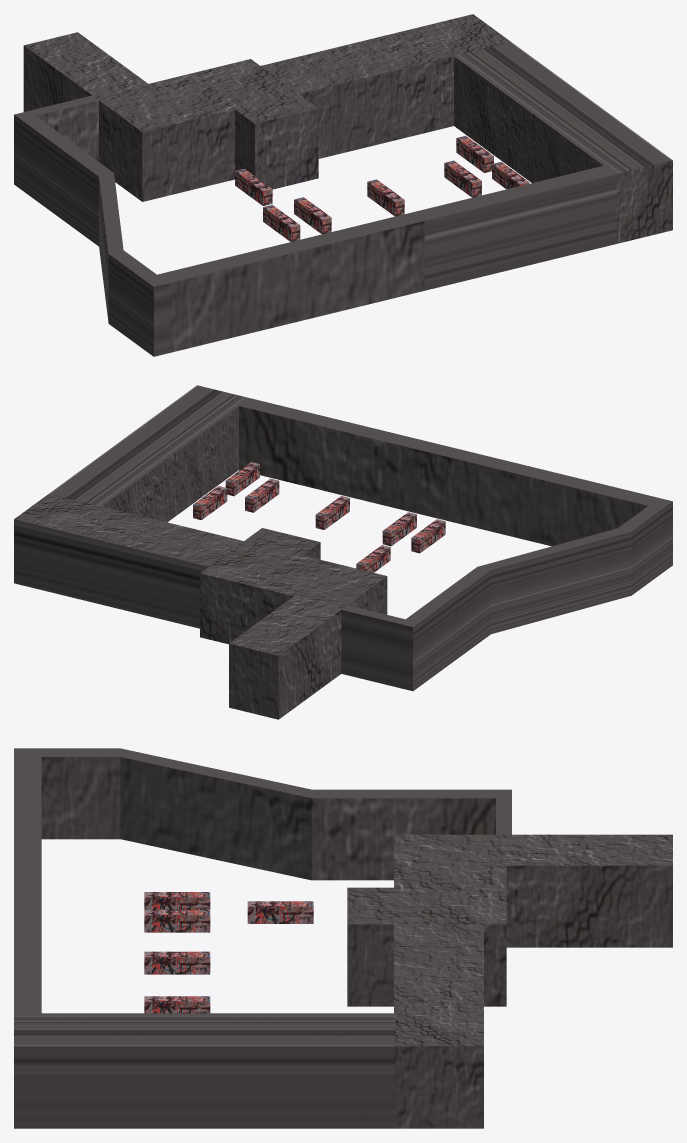
The model's file is decor0.obj.
The picture shows the model from 3 angles, top to bottom: view 1: azimuth 30°, elevation 25°; view 2: azimuth 150°, elevation 25°; view 3: azimuth 270°, elevation 25°; orthographic projection. The views are drawn at different scales.
Parts seen in each view (by area): view 1: Cube.024_Cube.023, Cube.027, Cube.028, Cube.029, Cube.030, Cube.031, Cube.026, Cube.025_Cube.013; view 2: Cube.024_Cube.023, Cube.026, Cube.028, Cube.030, Cube.027, Cube.029, Cube.025_Cube.013, Cube.031; view 3: Cube.024_Cube.023, Cube.028, Cube.029, Cube.031, Cube.030, Cube.027.
Boxes of the visible parts, x1,y1,x2,y2 form: Cube.024_Cube.023: [14, 14, 672, 356]; Cube.027: [444, 160, 481, 197]; Cube.028: [367, 179, 404, 216]; Cube.029: [294, 197, 331, 234]; Cube.030: [263, 204, 300, 241]; Cube.031: [235, 168, 272, 205]; Cube.026: [456, 135, 493, 172]; Cube.025_Cube.013: [492, 161, 529, 189]; Cube.024_Cube.023: [14, 385, 672, 719]; Cube.026: [193, 486, 227, 519]; Cube.028: [315, 496, 349, 529]; Cube.030: [411, 519, 445, 553]; Cube.027: [245, 478, 279, 512]; Cube.029: [382, 512, 416, 546]; Cube.025_Cube.013: [225, 462, 259, 496]; Cube.031: [356, 545, 390, 572]; Cube.024_Cube.023: [14, 748, 672, 1128]; Cube.028: [144, 951, 210, 974]; Cube.029: [144, 910, 210, 932]; Cube.031: [247, 901, 313, 923]; Cube.030: [144, 892, 210, 909]; Cube.027: [144, 996, 210, 1013].
Size of the model in its own units: 81786 by 10521 by 76431.
2 materials, 2 textured.
